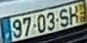0: (36, 12, 46, 33)
3: (45, 11, 55, 31)
7: (22, 16, 32, 37)
9: (11, 18, 22, 38)
H: (68, 4, 78, 26)
S: (58, 8, 69, 27)
